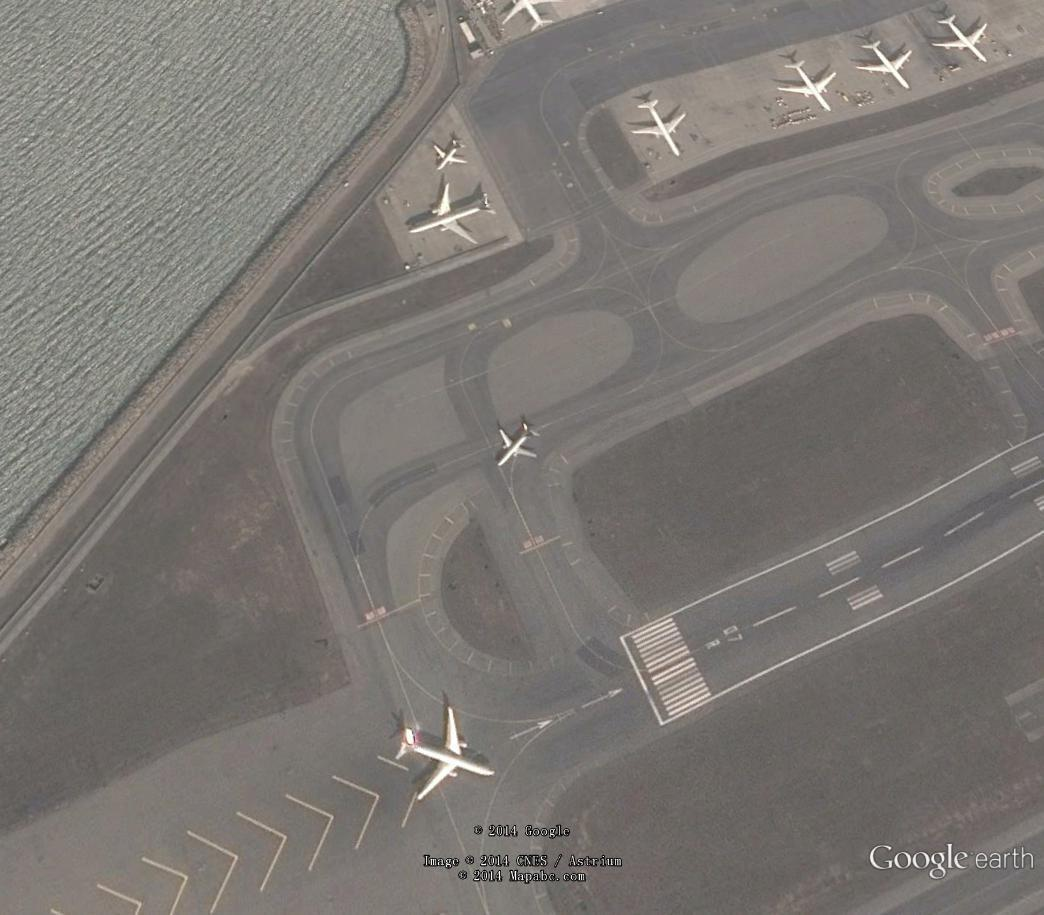aircraft: (390, 703, 501, 804), (397, 183, 504, 253), (774, 52, 840, 121), (855, 30, 918, 99), (925, 9, 993, 72), (627, 97, 688, 159), (490, 417, 541, 474), (484, 4, 562, 36), (427, 132, 471, 175)
